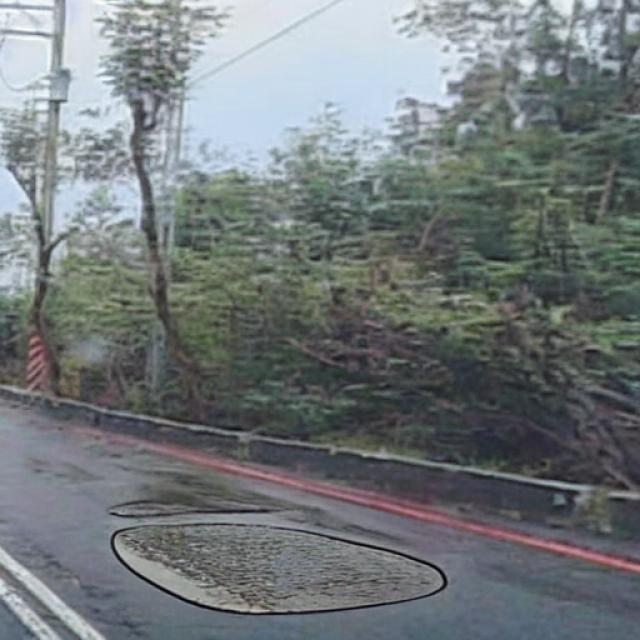puddle: (115, 527, 449, 614), (111, 501, 273, 520)
